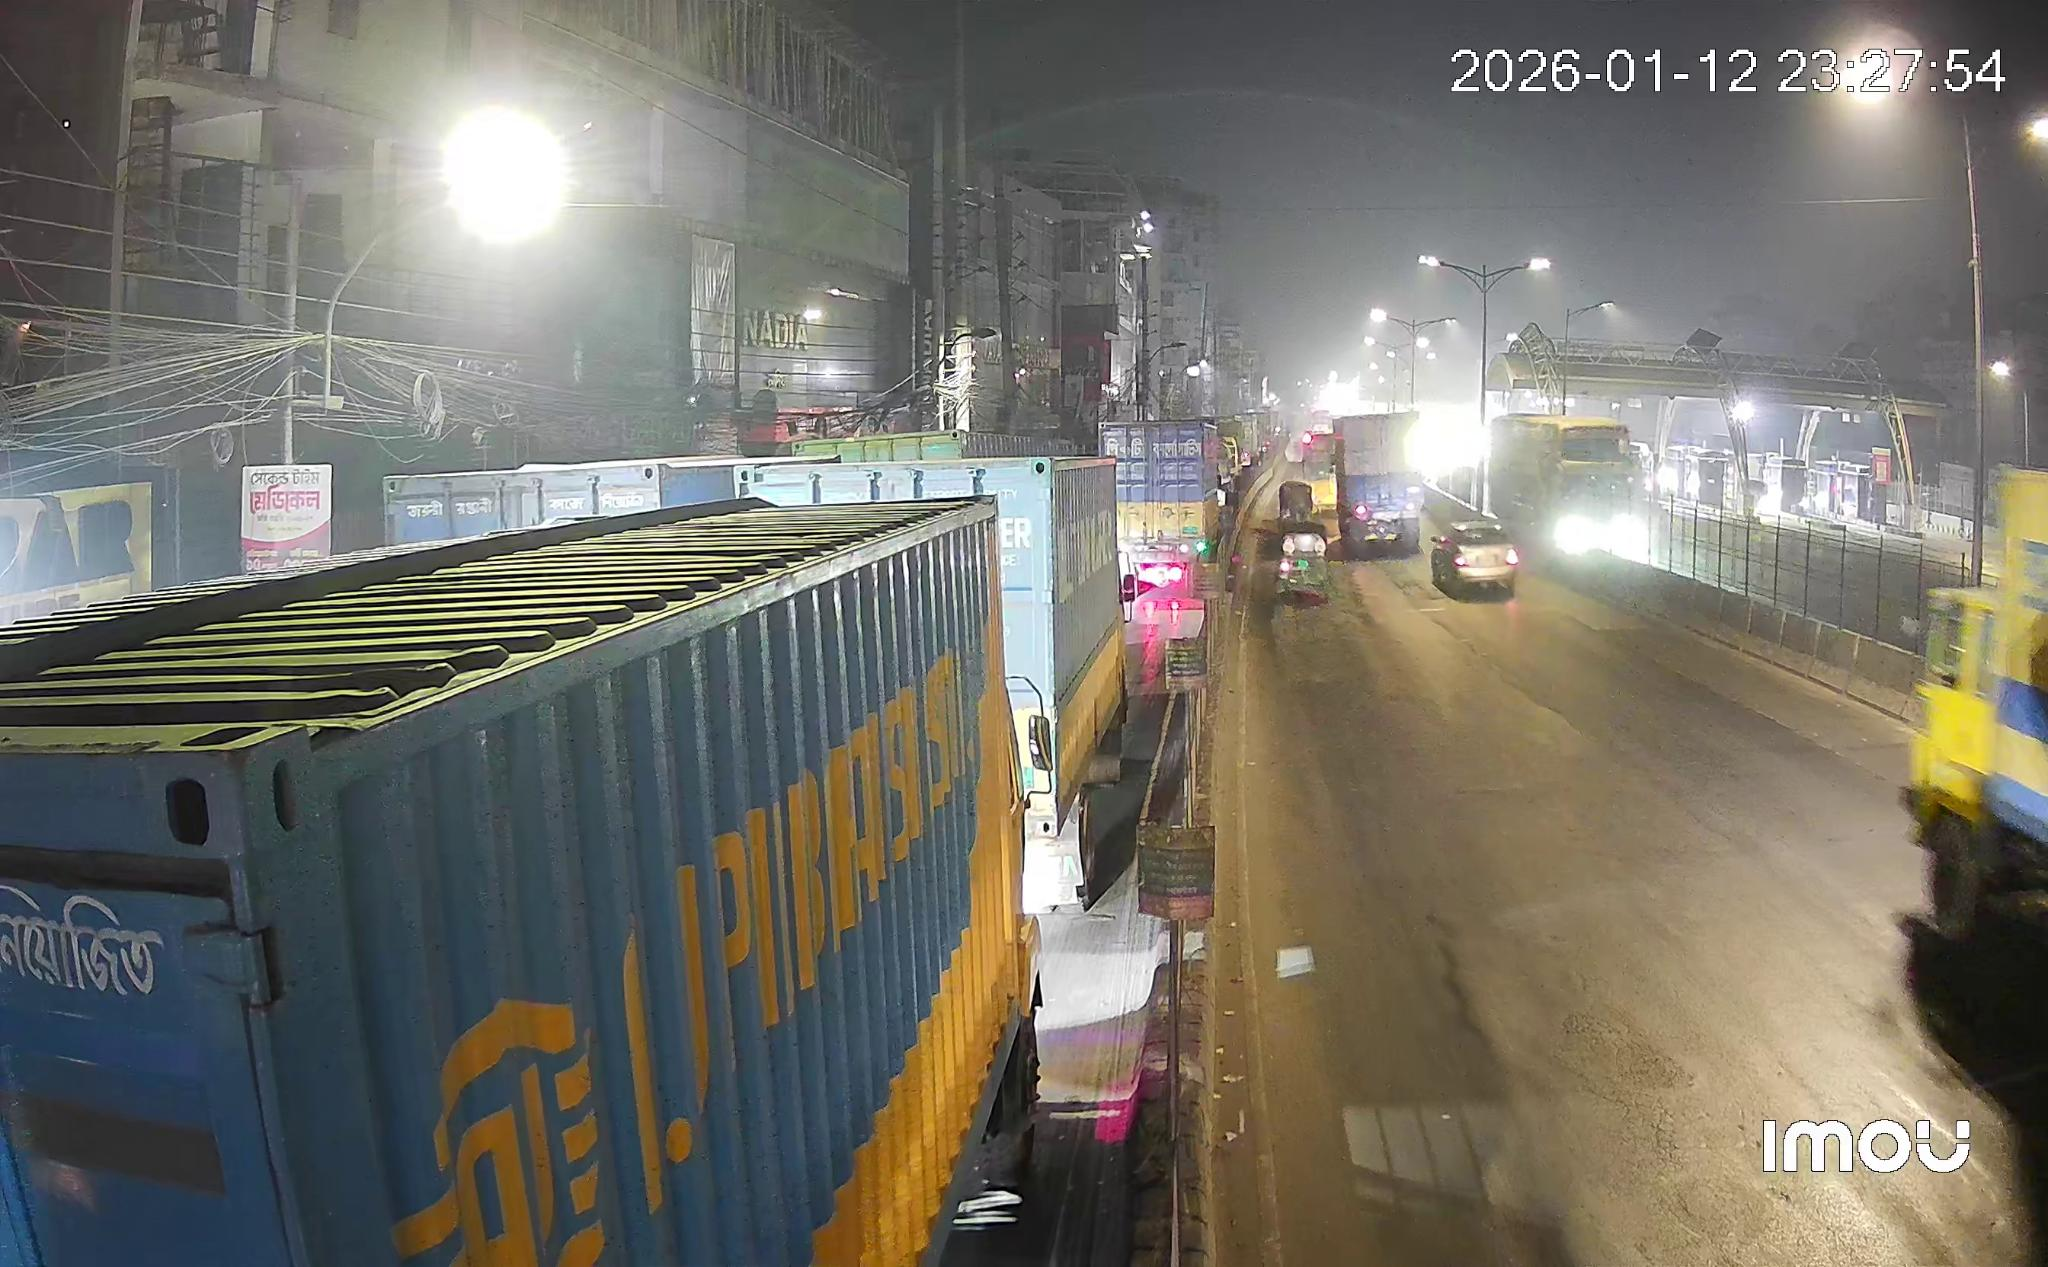Bus: (1490, 413, 1640, 548)
CNG-Tempo: (1277, 525, 1330, 597)
Private-Sedan Car: (1429, 518, 1520, 594)
Truck: (0, 498, 1038, 1267), (739, 456, 1130, 912), (1905, 469, 2047, 939), (1101, 419, 1219, 601), (1333, 413, 1422, 557)
